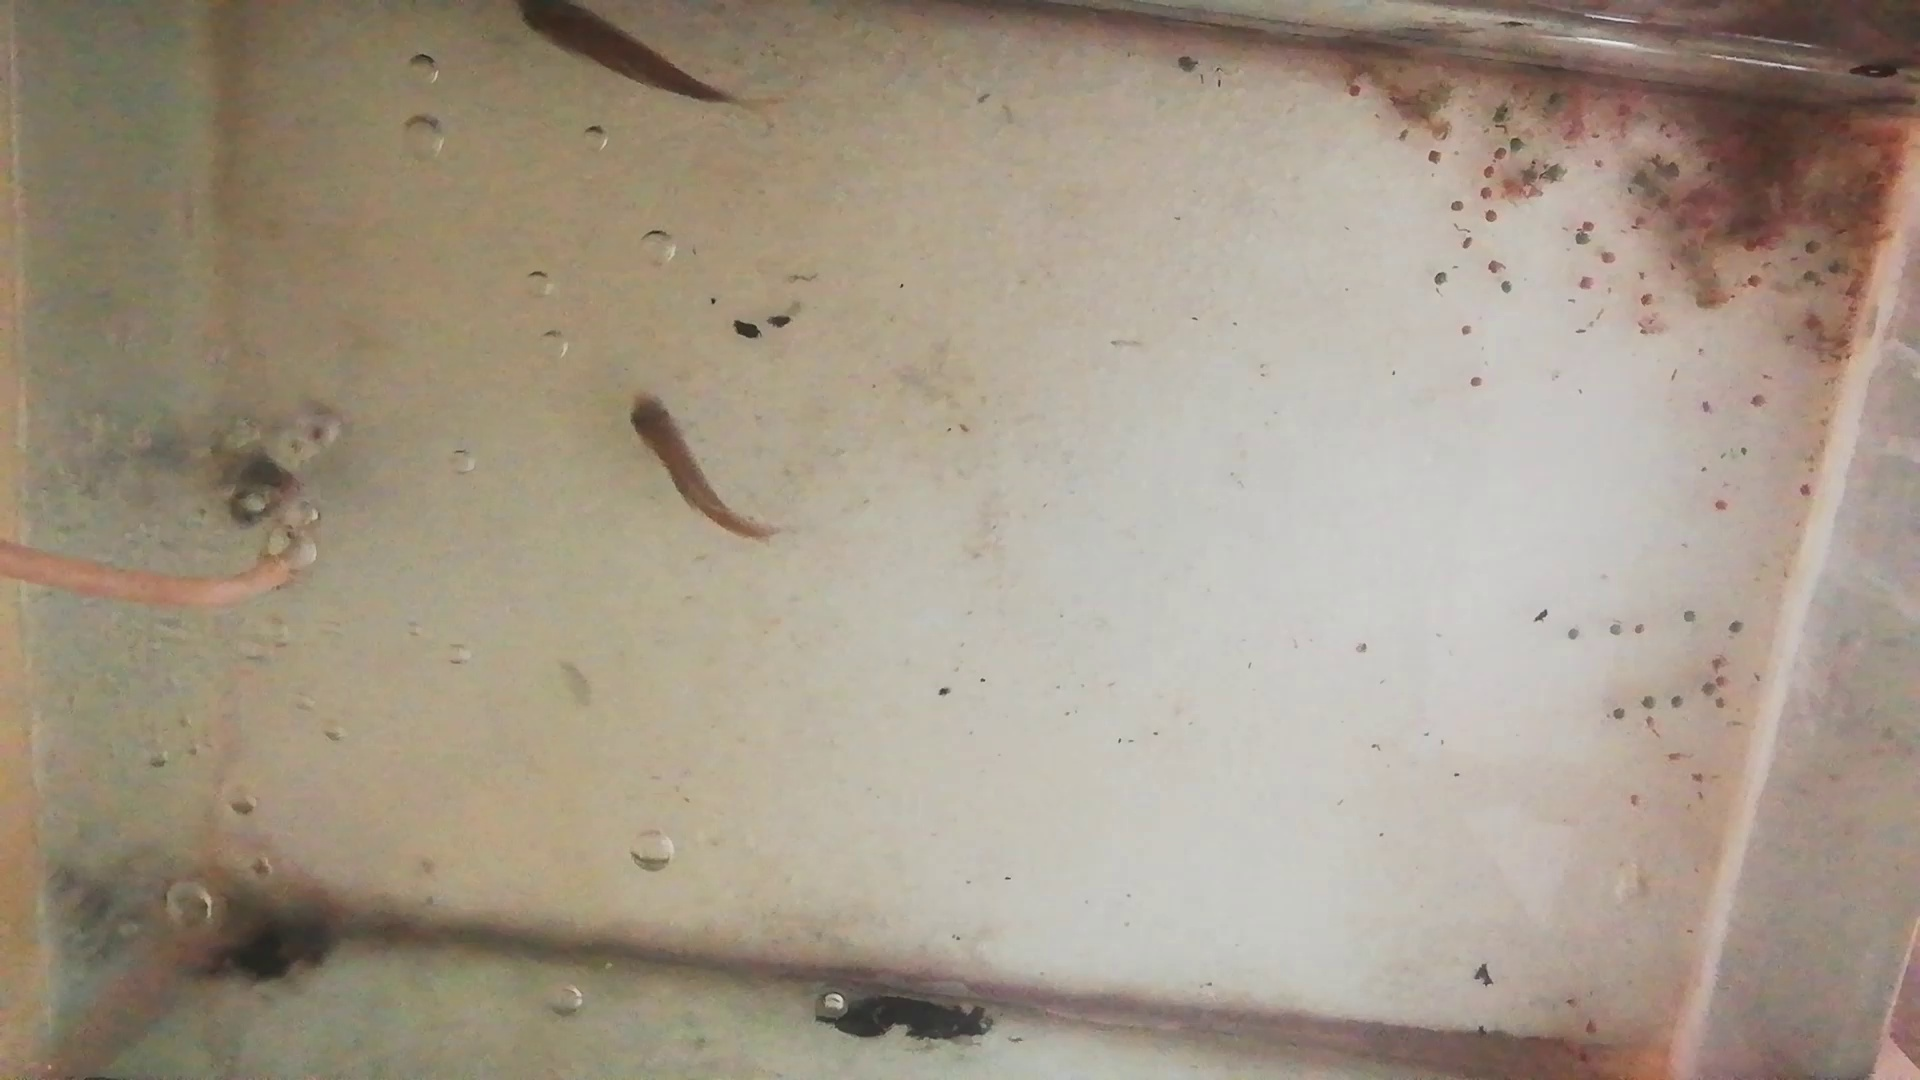fish: (512, 3, 728, 124), (628, 390, 767, 546)
